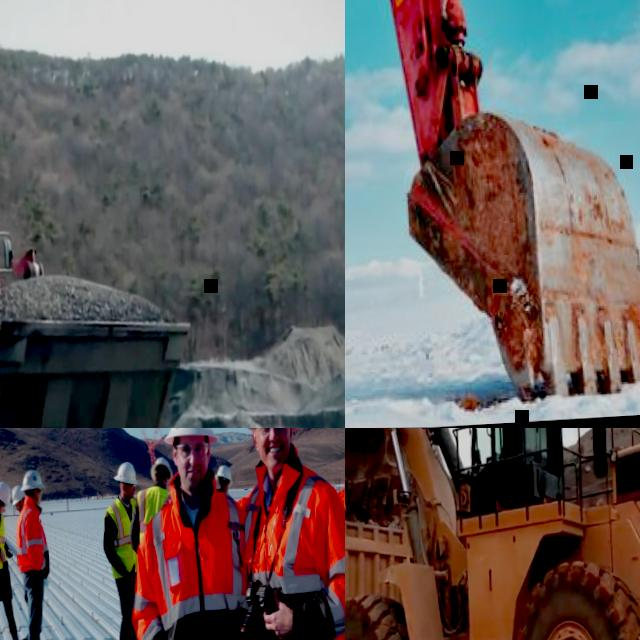Hardhat: (160, 428, 221, 448), (20, 468, 45, 494), (114, 462, 138, 489), (150, 456, 173, 481), (215, 466, 235, 487), (0, 478, 14, 506), (11, 483, 26, 508)
NO-Mask: (257, 441, 291, 472), (177, 460, 206, 491), (124, 489, 135, 502), (35, 493, 42, 504), (16, 504, 23, 513), (0, 507, 4, 515)
Person: (120, 428, 267, 640), (226, 428, 345, 640), (119, 456, 186, 640), (98, 460, 149, 640), (14, 468, 58, 640), (0, 478, 25, 640), (10, 485, 33, 640), (215, 463, 237, 494)
Safety Vest: (233, 439, 345, 640), (124, 471, 256, 640), (14, 496, 52, 583), (106, 496, 141, 578), (131, 486, 174, 542), (0, 507, 8, 574)
vehicle: (345, 0, 640, 423), (345, 428, 640, 640), (0, 179, 209, 428), (345, 491, 428, 640)
